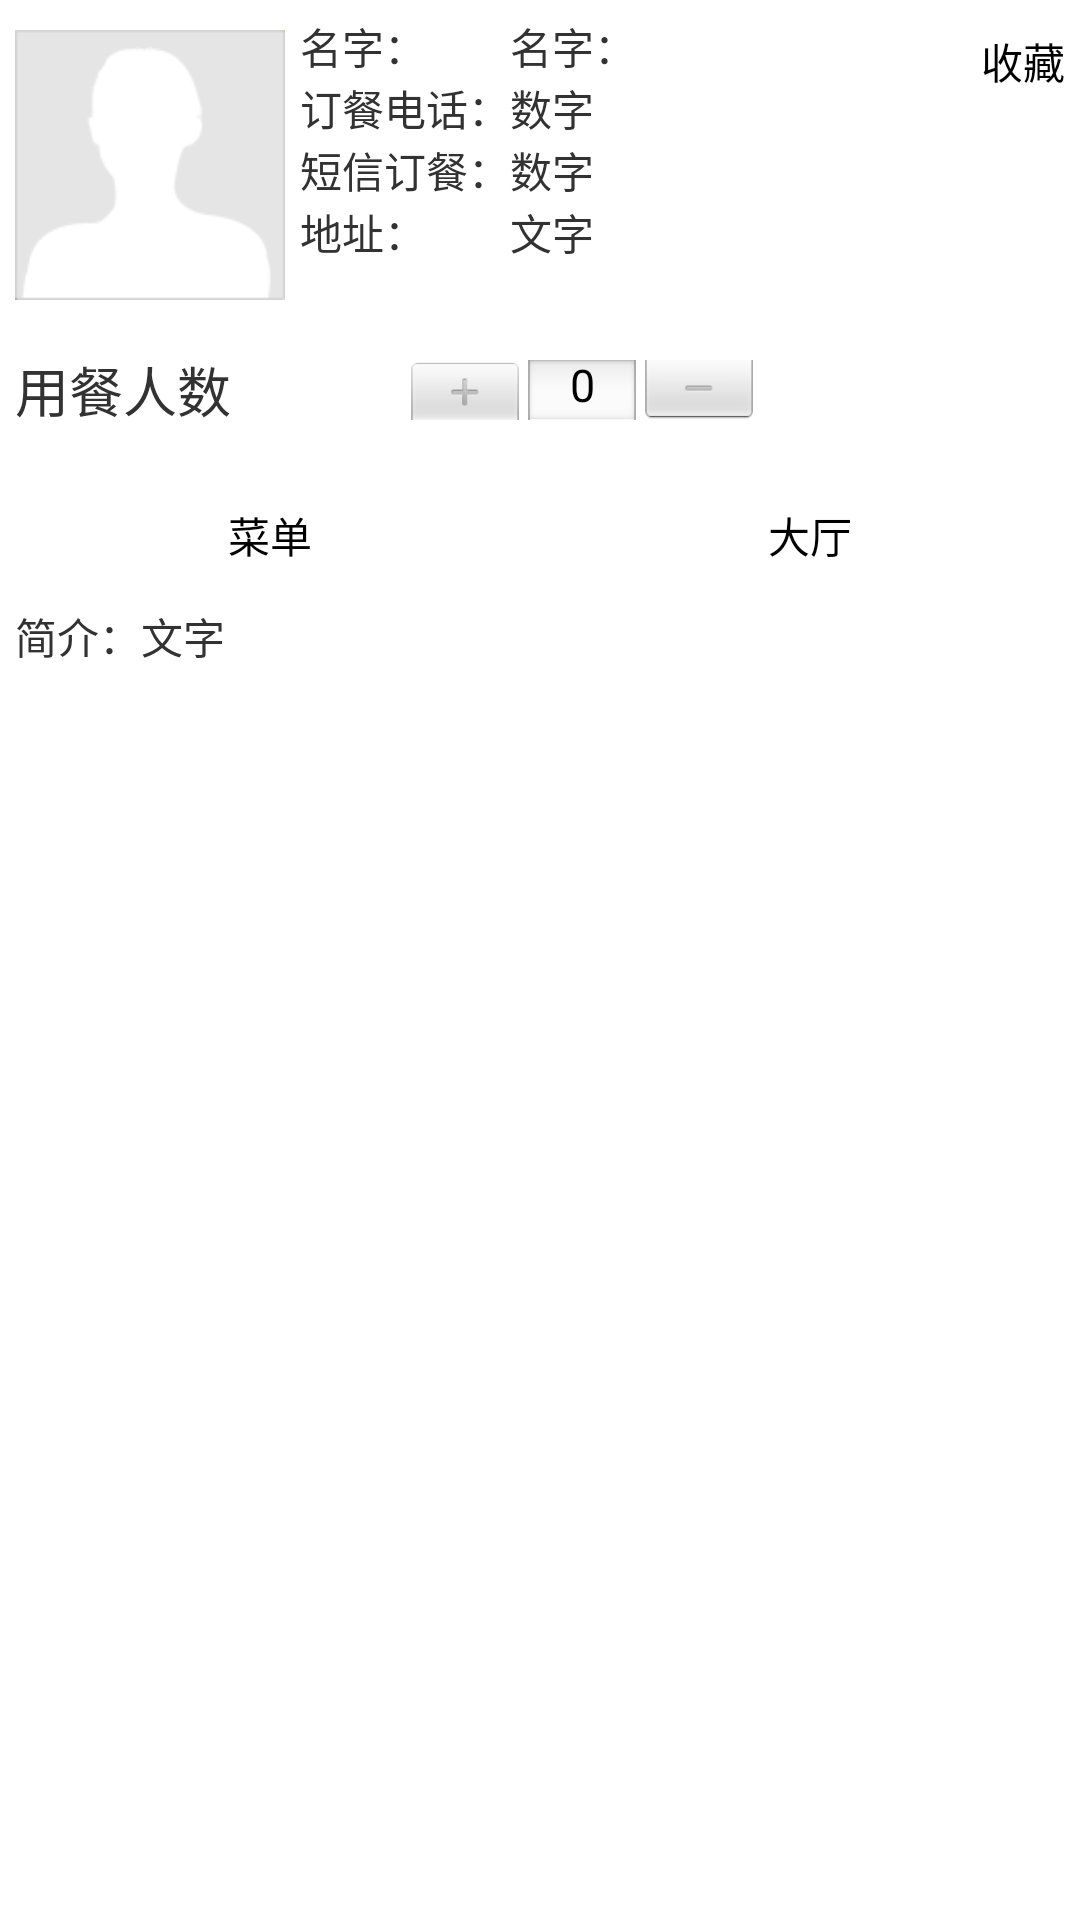

Screen size 1080*1920. Icon name, then its center in pixels as (x,y):
user headpic: (150,165)
